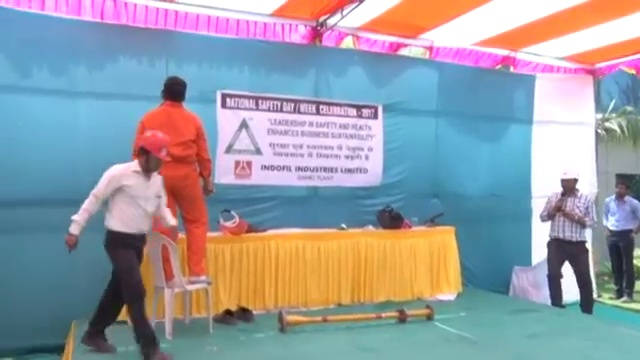helmet: (136, 128, 174, 165), (557, 168, 580, 182)
helmet_off: (161, 77, 188, 104), (615, 181, 629, 200)
helmet_on: (133, 127, 173, 181), (555, 167, 582, 197)
person: (62, 129, 177, 360), (137, 76, 216, 286), (536, 168, 601, 319), (603, 180, 639, 307)
